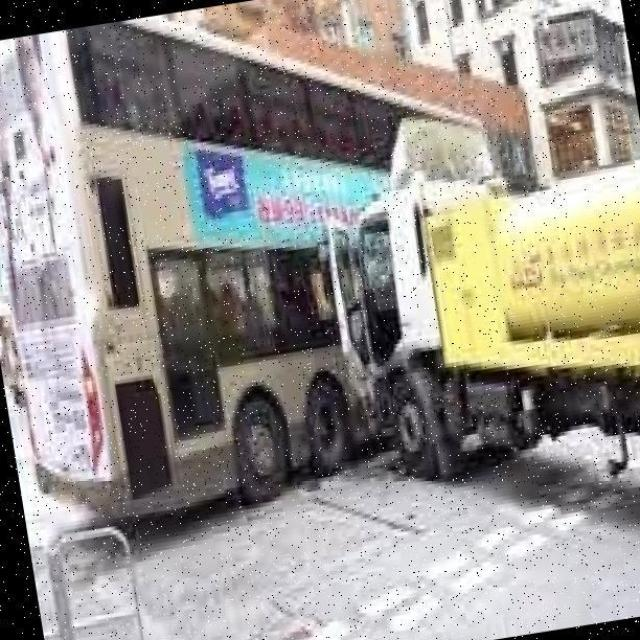accident: (230, 115, 530, 513)
